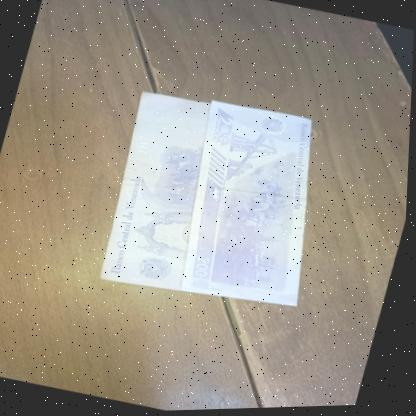ten-back-vef: (107, 95, 319, 235)
two_hundred-back-vef: (80, 167, 305, 352)
